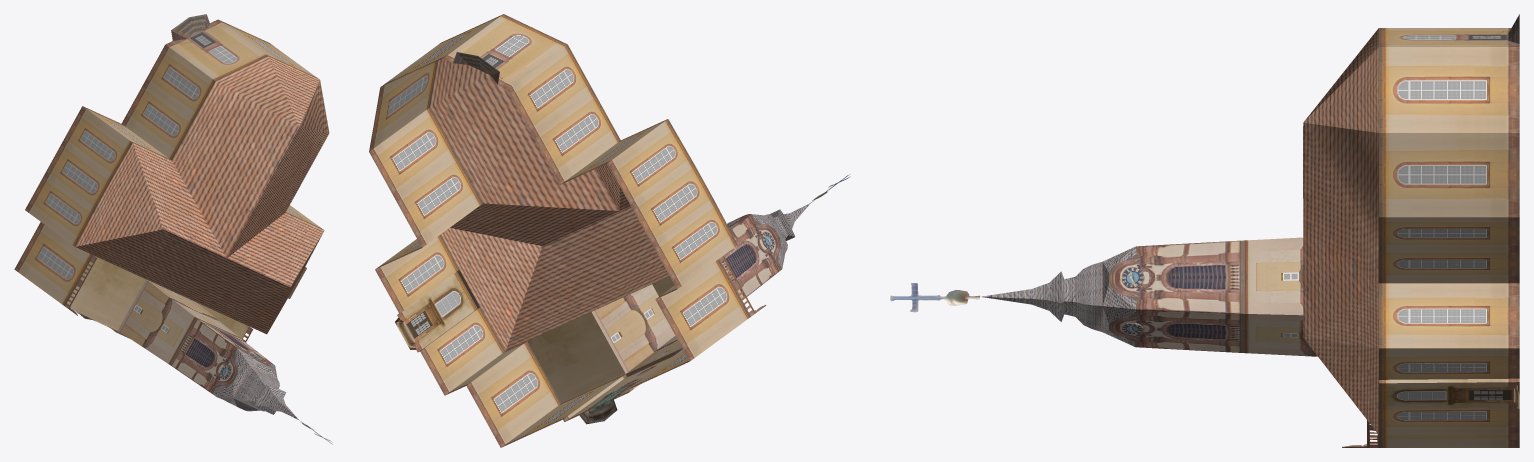
Rendered from DEU_599_KARLSRUHE_GEDAECH_S.OBJ.
3 views of the same model, side by side, from view 1: azimuth 30°, elevation 25°; view 2: azimuth 150°, elevation 25°; view 3: azimuth 270°, elevation 25° (orthographic). The views are drawn at different scales.
Visible parts, largest first — view 1: DEU_599_KARLSRUHE_GEDAECH; view 2: DEU_599_KARLSRUHE_GEDAECH; view 3: DEU_599_KARLSRUHE_GEDAECH.
Part boxes in pixels (left/top/right/bottom): DEU_599_KARLSRUHE_GEDAECH: left=14, top=14, right=332, bottom=444; DEU_599_KARLSRUHE_GEDAECH: left=369, top=14, right=850, bottom=447; DEU_599_KARLSRUHE_GEDAECH: left=890, top=14, right=1519, bottom=447.
Bounding box in the file's own units: 23.52 × 27.07 × 34.61.
Materials: 1 (1 with a texture image).
